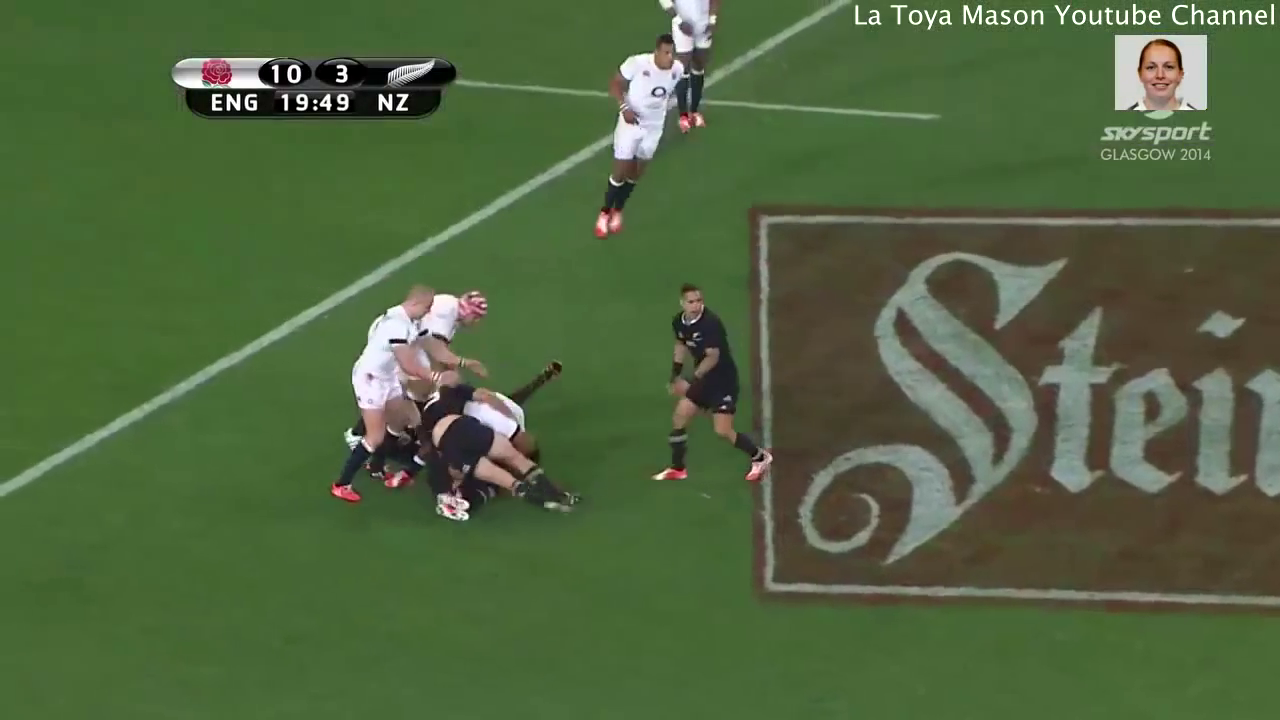player: (313, 272, 446, 516), (645, 275, 781, 502), (404, 382, 591, 521), (584, 30, 689, 250), (363, 281, 501, 379), (651, 1, 727, 132)
ruck: (319, 307, 581, 531)
